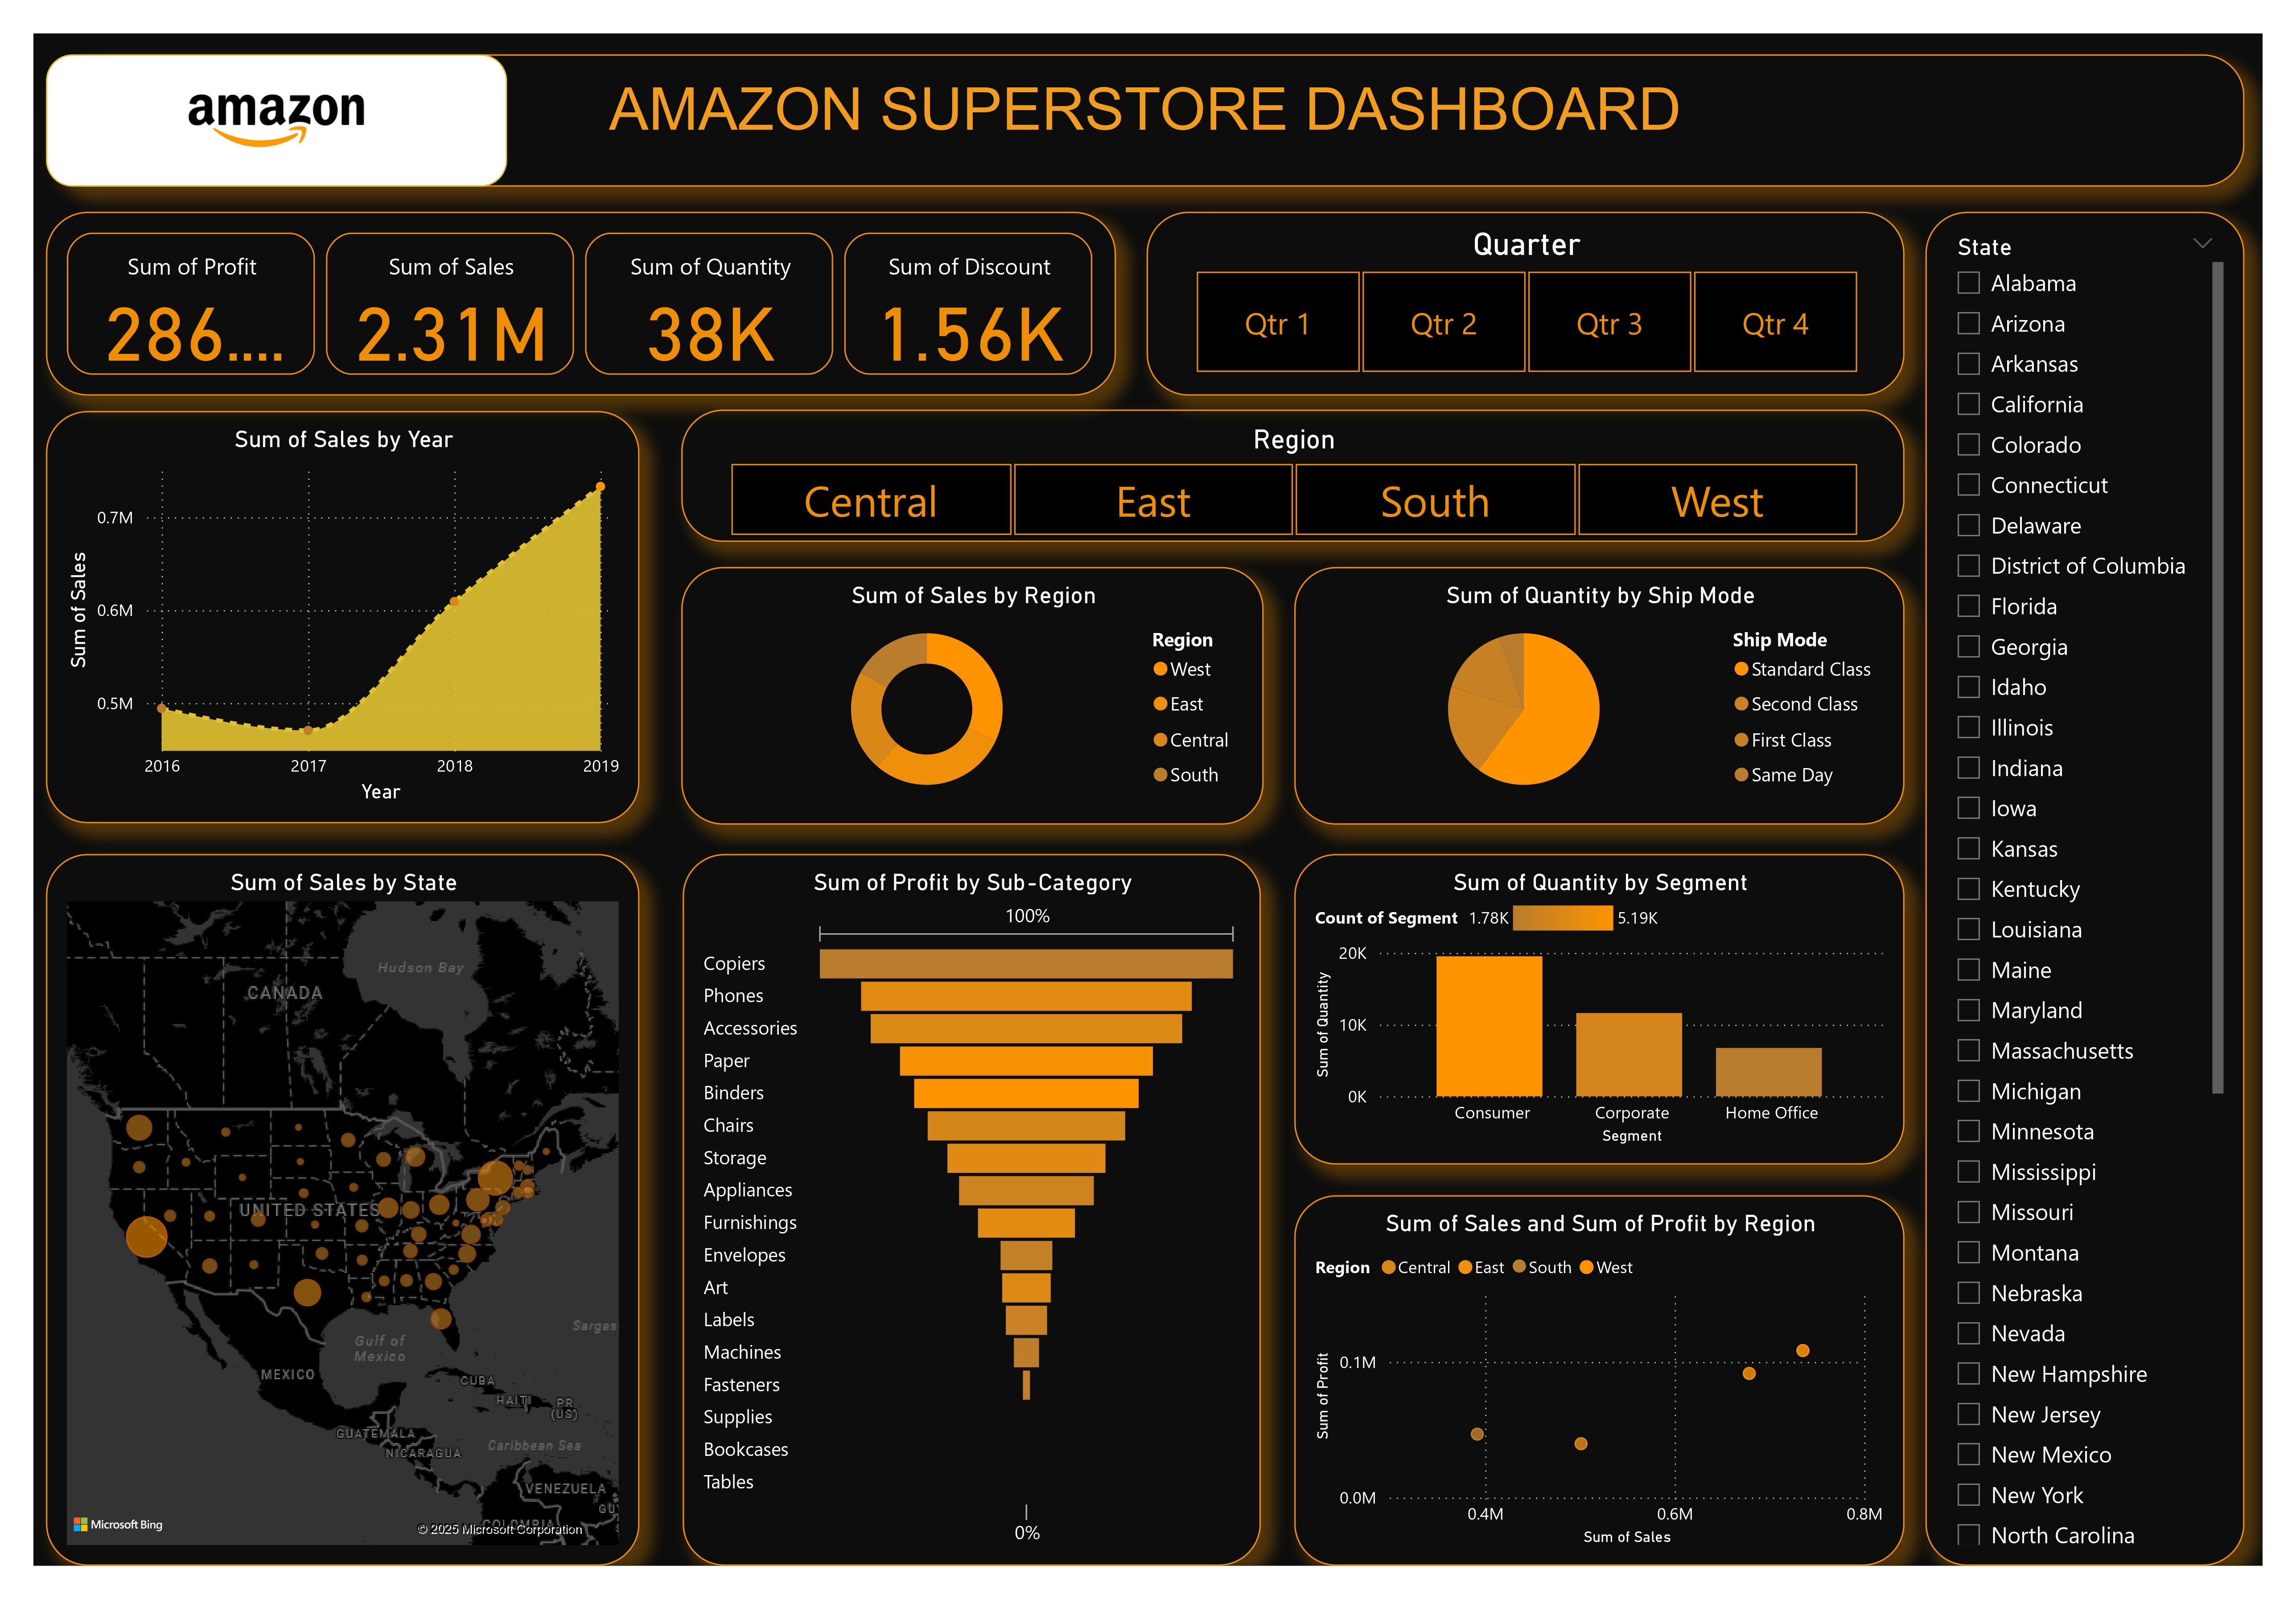

The page's visual inventory and layout, read from the dashboard file:
{"tool":"powerbi","page":{"name":"DASHBOARD","canvas":[1600,1100],"ordinal":0},"visuals":[{"type":"textbox","box":[8.7,15.2,1578.5,95.3],"z":0},{"type":"donutChart","fields":{"Category":["Orders.Region"],"Y":["Sum(Orders.Sales)"]},"box":[465,382.5,417.5,185],"z":1000},{"type":"lineChart","fields":{"Category":["Orders.Order Date.Variation.Date Hierarchy.Year","Orders.Order Date.Variation.Date Hierarchy.Quarter","Orders.Order Date.Variation.Date Hierarchy.Month","Orders.Order Date.Variation.Date Hierarchy.Day"],"Y":["Sum(Orders.Sales)"]},"box":[8.7,270.7,426.6,296.7],"z":2000},{"type":"map","fields":{"Category":["Orders.State"],"Size":["Sum(Orders.Sales)"]},"box":[8.7,589,426.6,511],"z":3000},{"type":"slicer","fields":{"Values":["Orders.State"]},"box":[1357.7,127.8,229.5,972.2],"z":4000},{"type":"funnel","fields":{"Category":["Orders.Sub-Category"],"Y":["Sum(Orders.Profit)"]},"box":[465.6,589,415.7,511],"z":5000},{"type":"clusteredColumnChart","fields":{"Category":["Orders.Segment"],"Y":["Sum(Orders.Quantity)"]},"box":[905.1,589,437.4,223],"z":6000},{"type":"pieChart","fields":{"Category":["Orders.Ship Mode"],"Y":["Sum(Orders.Quantity)"]},"box":[905,382.5,437.5,185],"z":7000},{"type":"scatterChart","fields":{"X":["Sum(Orders.Sales)"],"Y":["Sum(Orders.Profit)"],"Series":["Orders.Region"]},"box":[905.1,833.7,437.4,266.3],"z":8000},{"type":"cardVisual","fields":{"Data":["Sum(Orders.Profit)","Sum(Orders.Sales)","Sum(Orders.Quantity)","Sum(Orders.Discount)"]},"box":[8.7,127.8,768.7,132.1],"z":9000},{"type":"slicer","title":"Quarter","fields":{"Values":["Orders.Order Date.Variation.Date Hierarchy.Quarter"]},"box":[799,127.8,543.5,132.1],"z":10000},{"type":"slicer","title":"Region","fields":{"Values":["Orders.Region"]},"box":[465,270,877.5,95],"z":11000},{"type":"image","box":[8.7,15.2,331.3,95.3],"z":12000}]}

Visuals, with their boxes in screenshot pixels (x1, y1, x2, y2):
textbox: [45,54,2245,187]
donutChart - Orders.Region x Sum(Orders.Sales): [681,566,1263,824]
lineChart - Orders.Order Date.Variation.Date Hierarchy.Year x Orders.Order Date.Variation.Date Hierarchy.Quarter: [45,411,640,824]
map - Orders.State x Sum(Orders.Sales): [45,854,640,1566]
slicer - Orders.State: [1925,211,2245,1566]
funnel - Orders.Sub-Category x Sum(Orders.Profit): [682,854,1261,1566]
clusteredColumnChart - Orders.Segment x Sum(Orders.Quantity): [1294,854,1904,1164]
pieChart - Orders.Ship Mode x Sum(Orders.Quantity): [1294,566,1904,824]
scatterChart - Sum(Orders.Sales) x Sum(Orders.Profit): [1294,1195,1904,1566]
cardVisual - Sum(Orders.Profit) x Sum(Orders.Sales): [45,211,1116,395]
"Quarter" slicer: [1147,211,1904,395]
"Region" slicer: [681,410,1904,542]
image: [45,54,507,187]
